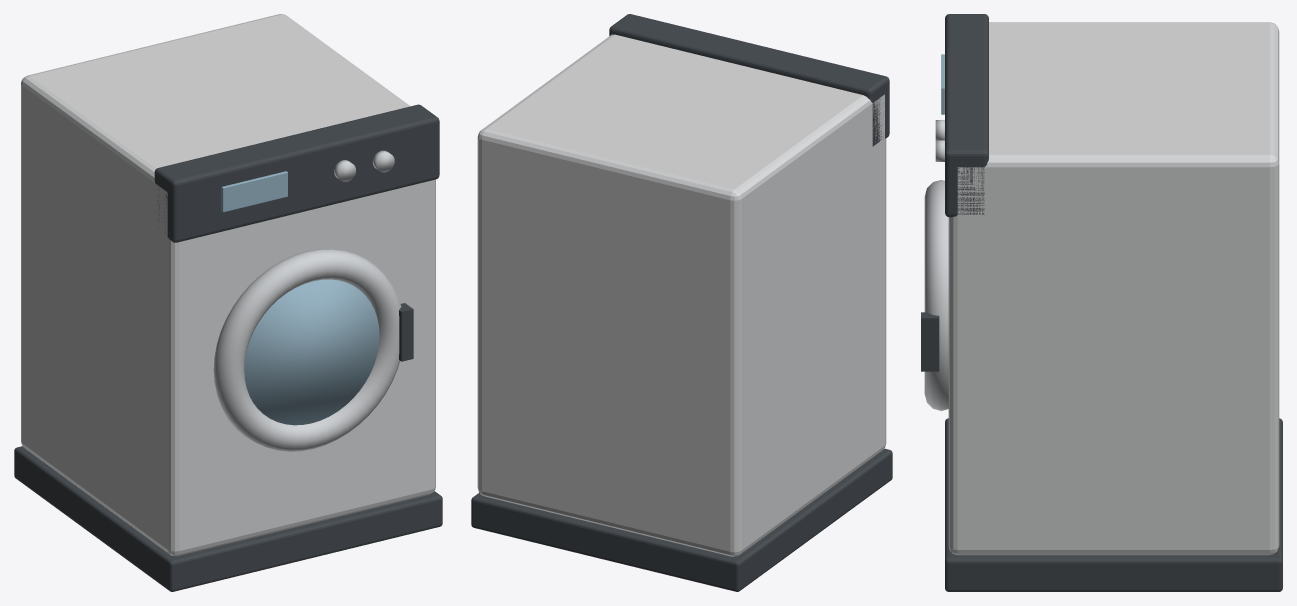
The model's file is Env_Washer.fbx.
3 views of the same model, side by side, from view 1: azimuth 30°, elevation 25°; view 2: azimuth 150°, elevation 25°; view 3: azimuth 270°, elevation 25° (orthographic). The views are drawn at different scales.
Parts seen in each view (by area): view 1: Env_Washer_Body, Env_Washer_Door, Env_Washer_Panel, Env_Washer_Plinth, Env_Washer_Display; view 2: Env_Washer_Body, Env_Washer_Plinth, Env_Washer_Panel; view 3: Env_Washer_Body, Env_Washer_Plinth, Env_Washer_Panel, Env_Washer_Door.
Boxes of the visible parts, left/top/right/bottom form: Env_Washer_Body: left=21, top=14, right=435, bottom=556; Env_Washer_Door: left=213, top=249, right=413, bottom=451; Env_Washer_Panel: left=154, top=104, right=439, bottom=242; Env_Washer_Plinth: left=14, top=446, right=442, bottom=591; Env_Washer_Display: left=221, top=171, right=287, bottom=212; Env_Washer_Body: left=477, top=34, right=886, bottom=556; Env_Washer_Plinth: left=471, top=448, right=892, bottom=591; Env_Washer_Panel: left=609, top=14, right=889, bottom=146; Env_Washer_Body: left=948, top=22, right=1279, bottom=555; Env_Washer_Plinth: left=945, top=418, right=1282, bottom=591; Env_Washer_Panel: left=945, top=14, right=988, bottom=217; Env_Washer_Door: left=921, top=180, right=948, bottom=410.
Size of the model in its own units: 0.92 by 1.32 by 0.985.
